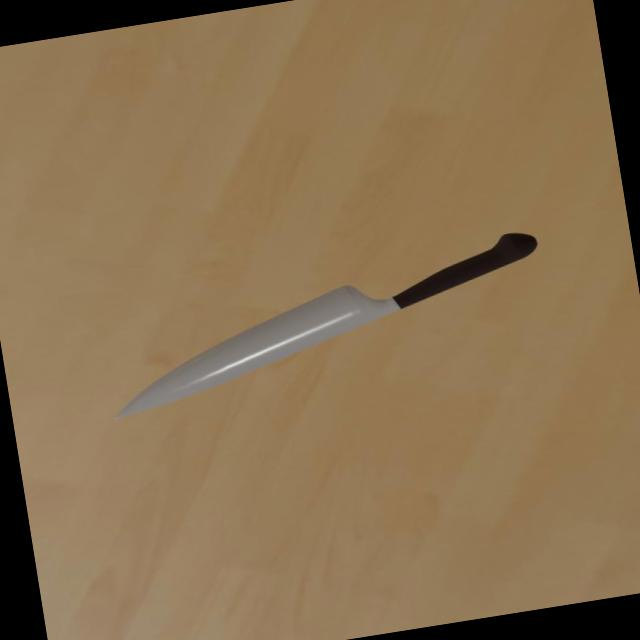knife: (380, 230, 543, 312)
